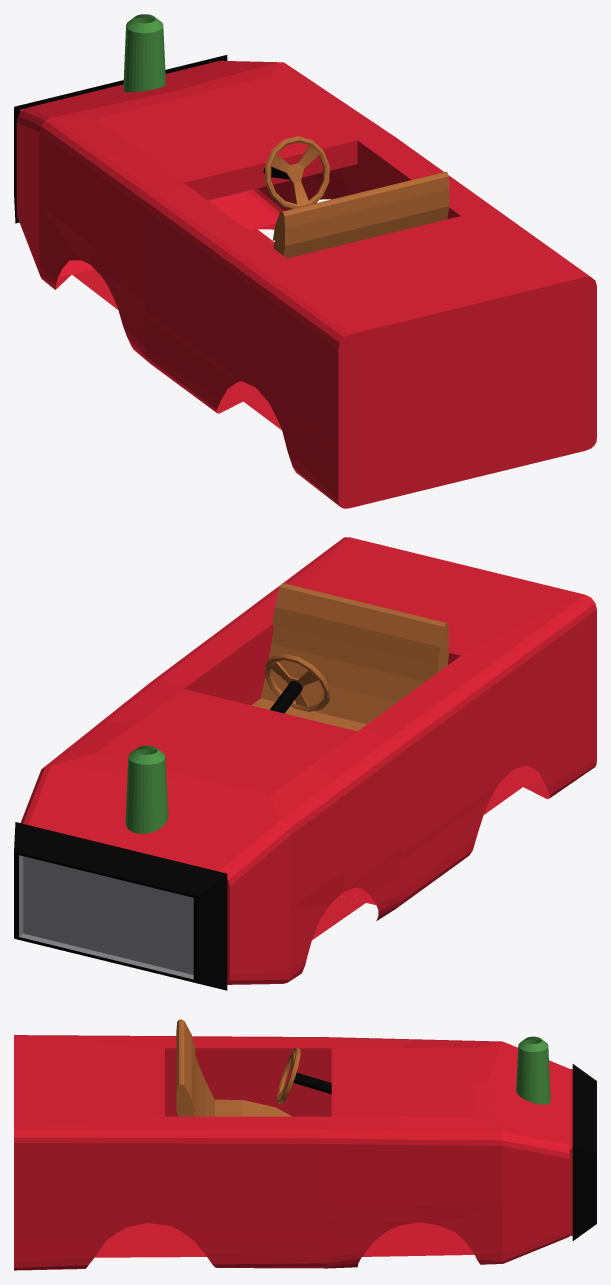
The model's file is Kart.fbx.
The picture shows the model from 3 angles, top to bottom: view 1: azimuth 30°, elevation 25°; view 2: azimuth 150°, elevation 25°; view 3: azimuth 270°, elevation 25°; orthographic projection. The views are drawn at different scales.
Parts seen in each view (by area): view 1: Kart; view 2: Kart; view 3: Kart.
Part boxes in pixels (x1,y1,x2,y2): Kart: (14,14,596,508); Kart: (14,537,596,990); Kart: (14,1019,596,1270).
Bounding box in the file's own units: 161 × 134 × 389.
